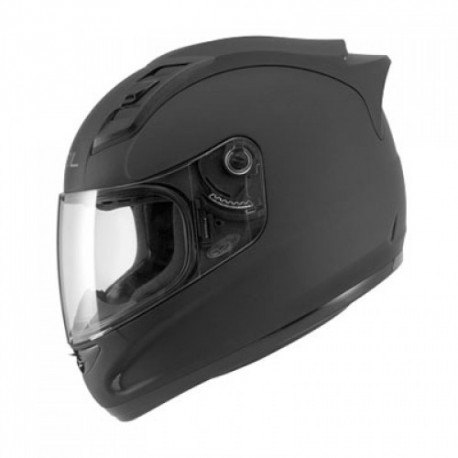helmet: (47, 34, 410, 425)
